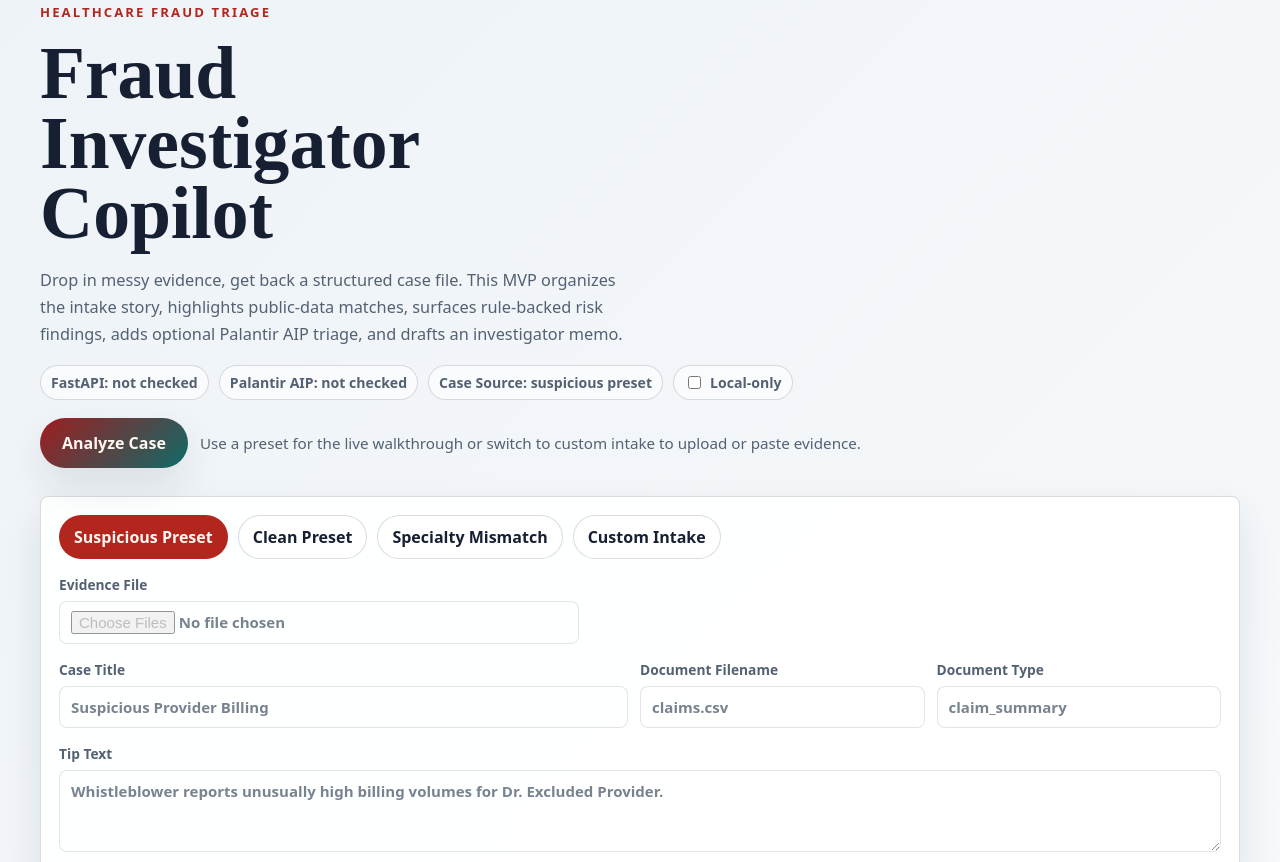
Test case: HomePage › loads the seeded demo case into the workspace when analyze is clicked
Step 1. Click the button "Analyze Case" → point(114, 443), box [40, 418, 188, 468]
(page scrolled)
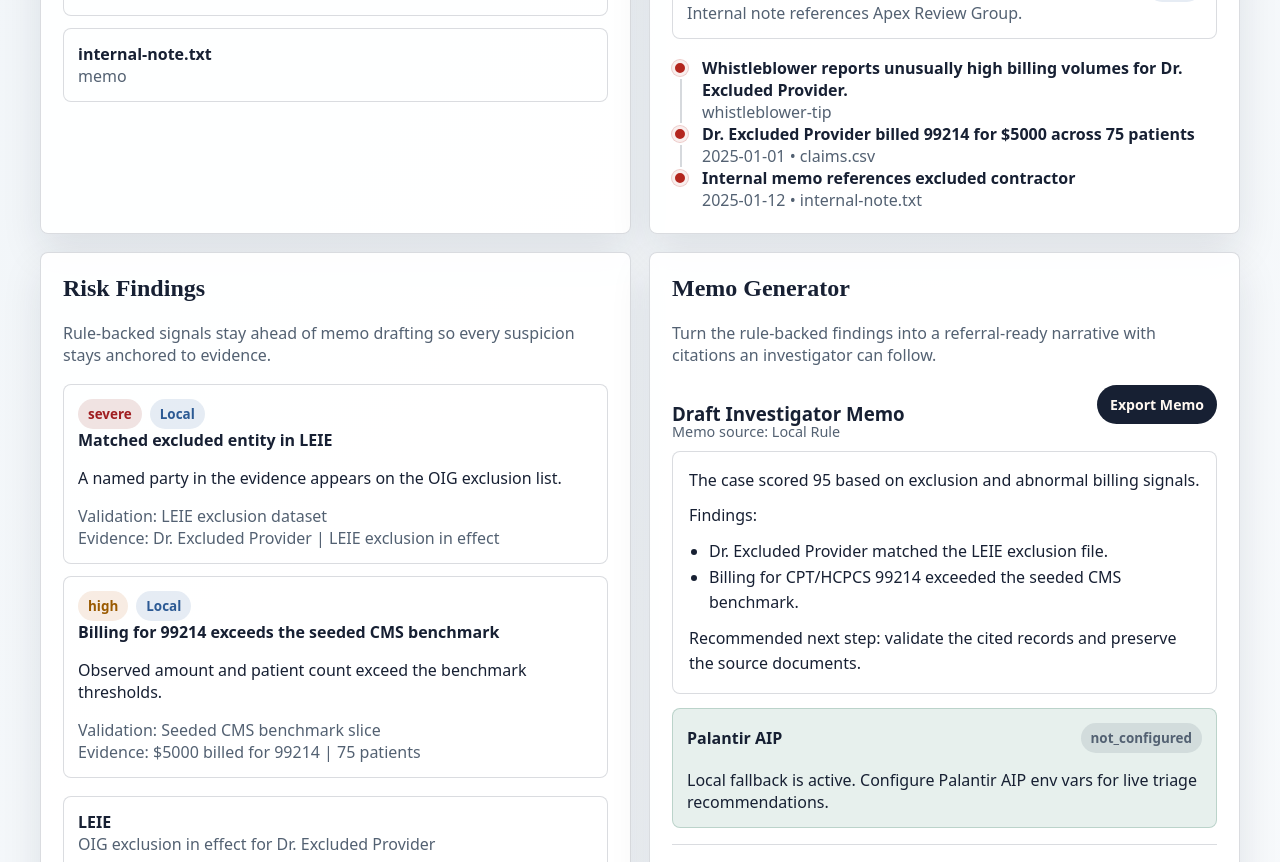
Expected: the text "Matched excluded entity in LEIE" is shown, [78, 429, 332, 451]
Expected: the heading "Draft Investigator Memo" is shown, [672, 401, 905, 426]
